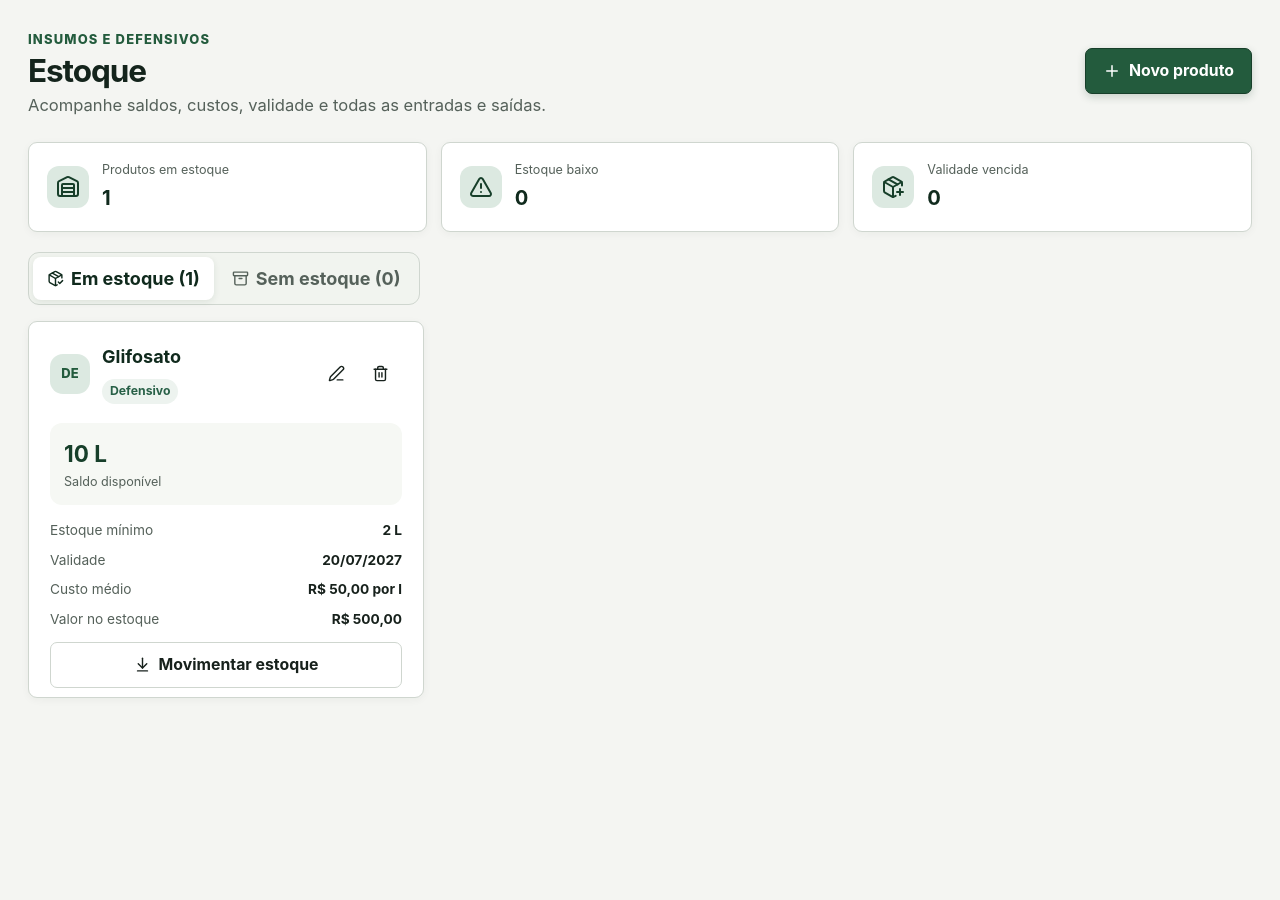
Test: InventoryPage › informa quando os ajustes de custo não podem ser carregados
Expected: the heading "Glifosato" is shown, x1=102 y1=343 x2=181 y2=370
Step 1. Click the button named "Editar Glifosato" → [336, 374], box x1=314 y1=352 x2=358 y2=396
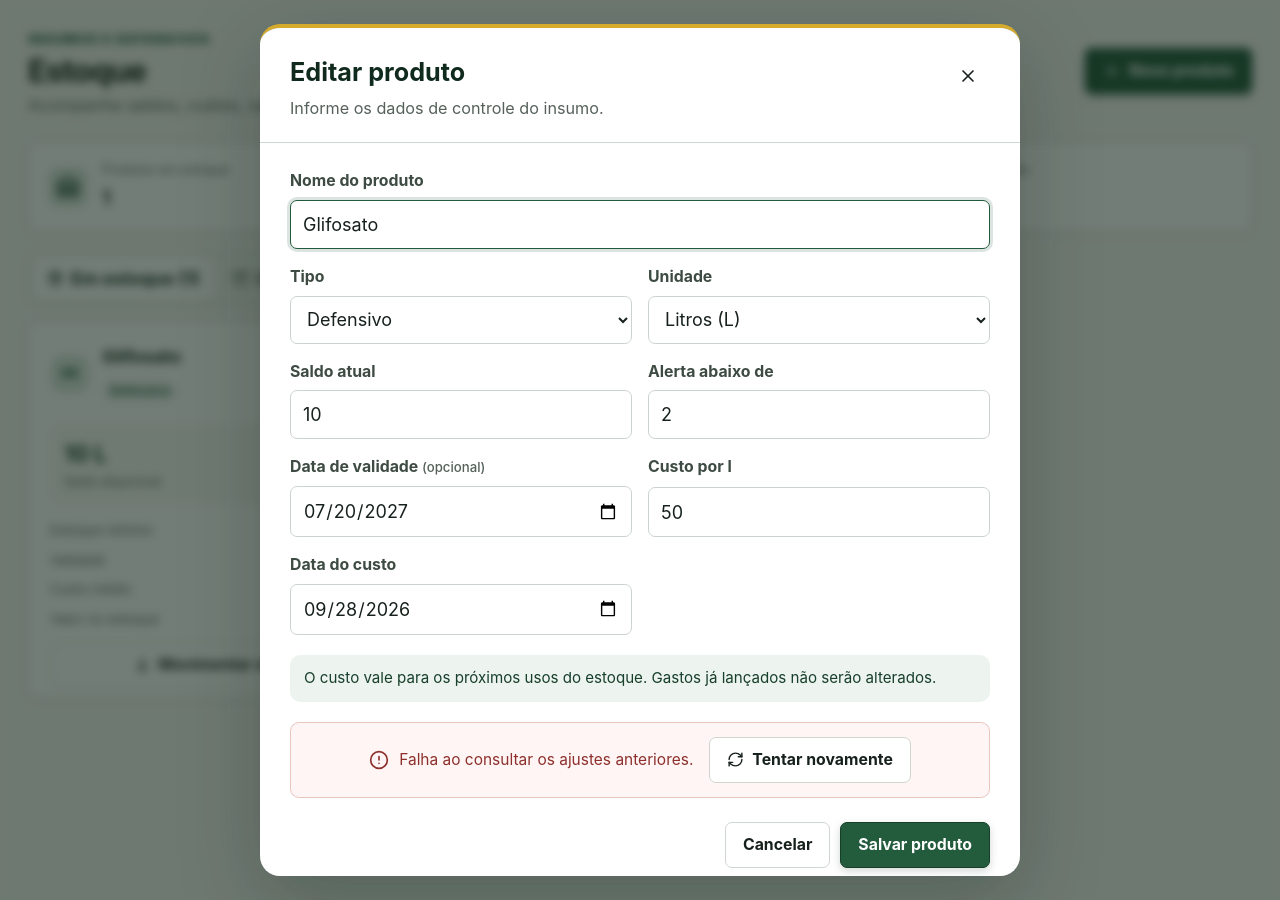
Expected: the text "Falha ao consultar os ajustes anteriores." is shown, x1=399 y1=748 x2=693 y2=771
